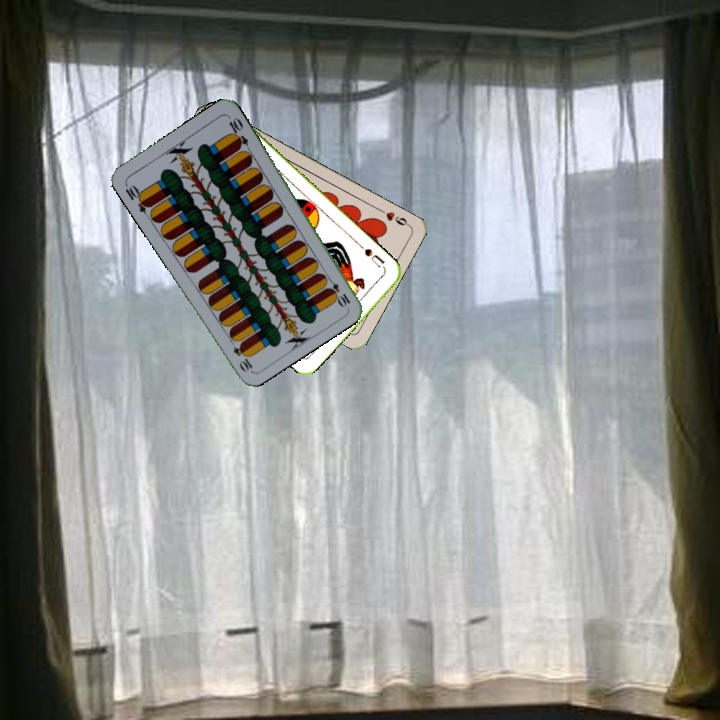E10: (121, 179, 153, 216), (322, 272, 353, 309)
H9: (374, 205, 412, 229)
SU: (360, 244, 388, 273)
